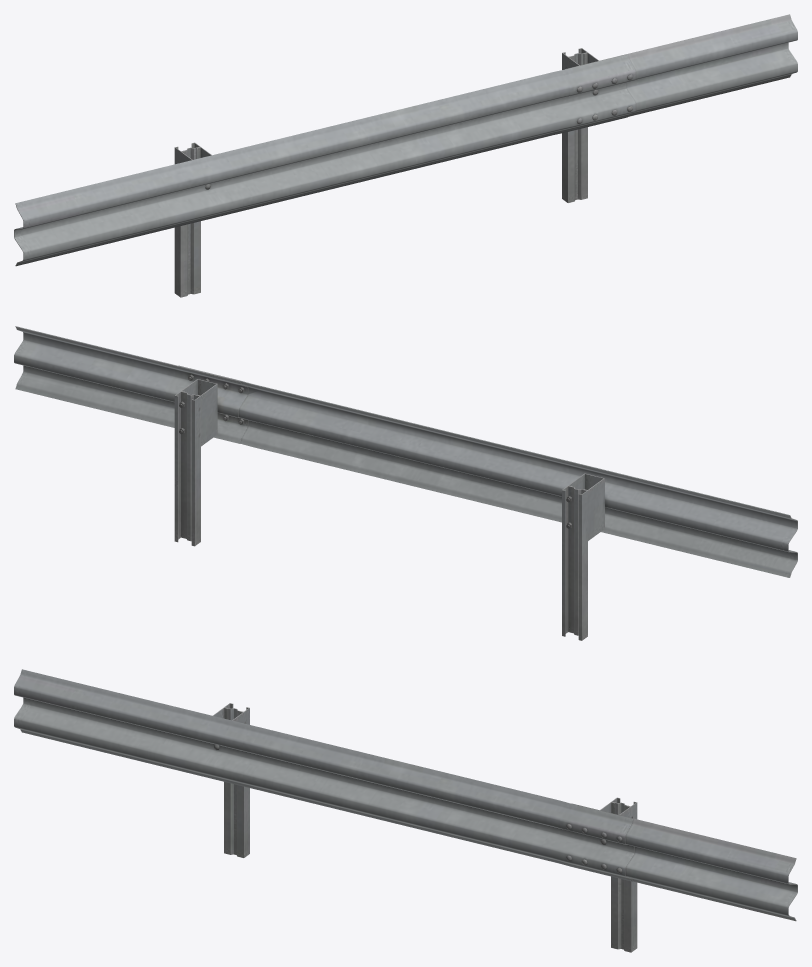
Rendered from guard-rail.glb.
3 views of the same model, one above another, from view 1: azimuth 30°, elevation 25°; view 2: azimuth 150°, elevation 25°; view 3: azimuth 330°, elevation 25° (orthographic).
Visible parts, largest first — view 1: guard-rail_body; view 2: guard-rail_body; view 3: guard-rail_body.
Part boxes in pixels (x1,y1,x2,y2): guard-rail_body: (14, 14, 797, 297); guard-rail_body: (14, 326, 797, 640); guard-rail_body: (14, 669, 797, 952).
Size of the model in its own units: 4 by 0.7539 by 0.3003.
1 material, 1 textured.
